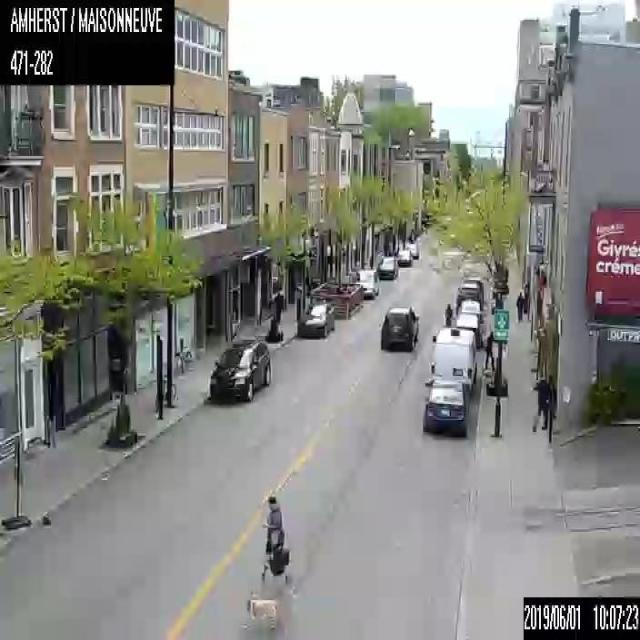cyclist: (443, 301, 452, 324)
pedestrian: (259, 493, 294, 598), (528, 372, 550, 443), (482, 328, 495, 371), (272, 284, 284, 323), (514, 288, 524, 321)
vehicle: (208, 333, 272, 403), (430, 326, 478, 391), (422, 378, 468, 432), (378, 303, 419, 349), (296, 298, 334, 338), (454, 313, 482, 349), (353, 268, 380, 296), (457, 282, 483, 307), (457, 299, 483, 323), (461, 274, 483, 299), (378, 254, 398, 280), (396, 249, 412, 265), (404, 244, 418, 258)
